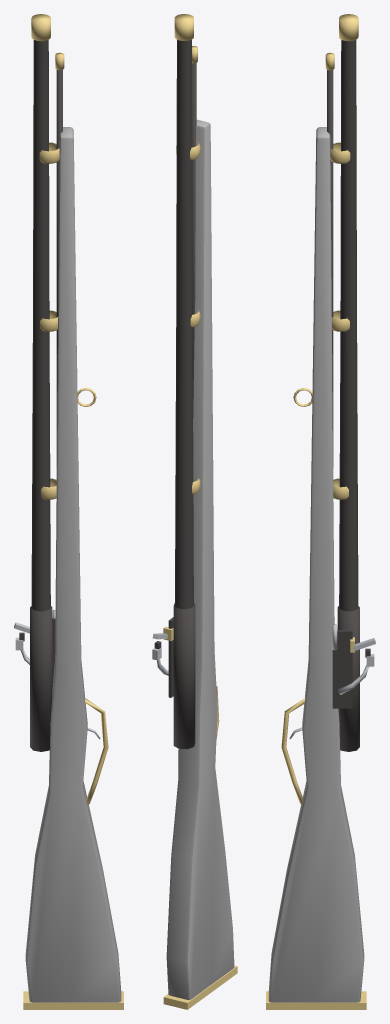
Rendered from w_muskete.glb.
3 renders of one model, left to right at view 1: azimuth 90°, elevation 25°; view 2: azimuth 150°, elevation 25°; view 3: azimuth 270°, elevation 25°, orthographic.
Visible parts, largest first — view 1: G_w_muskete; view 2: G_w_muskete; view 3: G_w_muskete.
Boxes of the visible parts, x1,y1,x2,y2 form: G_w_muskete: (14, 14, 123, 1009); G_w_muskete: (152, 14, 237, 1009); G_w_muskete: (266, 14, 375, 1009).
Size of the model in its own units: 0.0476 by 1.41 by 0.1422.
